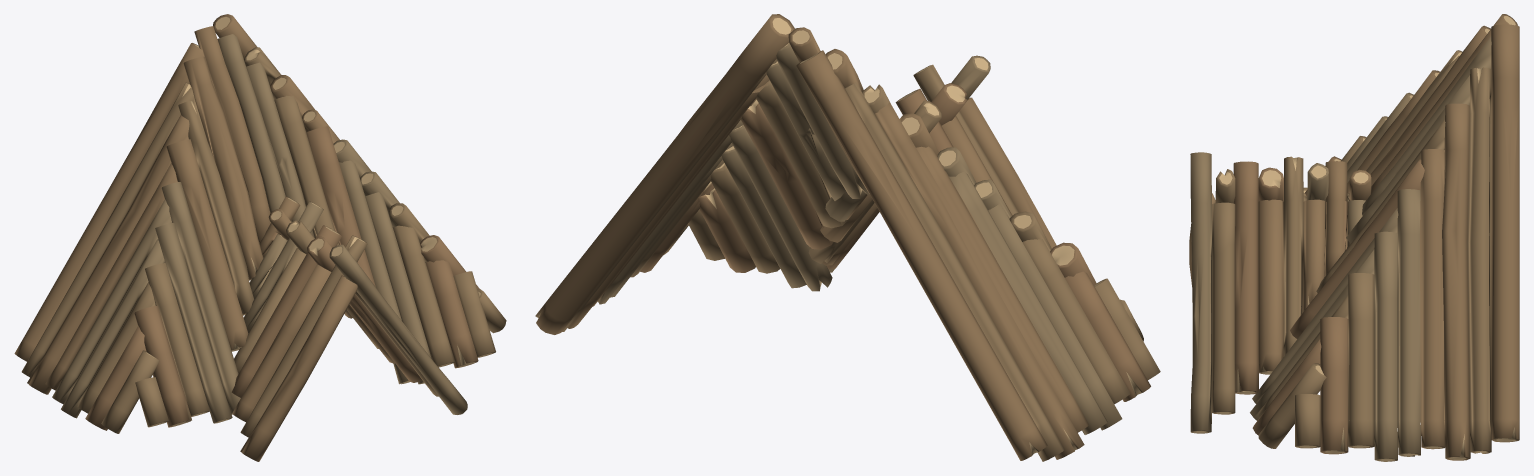
Rendered from rpgpp_ag_roof_01_6x5x3_end_03.fbx.
3 renders of one model, left to right at view 1: azimuth 30°, elevation 25°; view 2: azimuth 150°, elevation 25°; view 3: azimuth 270°, elevation 25°, orthographic. The views are drawn at different scales.
Parts seen in each view (by area): view 1: rpgpp_ag_roof_01_6x5x3_end_03; view 2: rpgpp_ag_roof_01_6x5x3_end_03; view 3: rpgpp_ag_roof_01_6x5x3_end_03.
Boxes of the visible parts, x1,y1,x2,y2 form: rpgpp_ag_roof_01_6x5x3_end_03: (14,14,506,461); rpgpp_ag_roof_01_6x5x3_end_03: (535,14,1160,461); rpgpp_ag_roof_01_6x5x3_end_03: (1189,14,1519,461).
Bounding box in the file's own units: 8.09 × 6.01 × 4.97.
